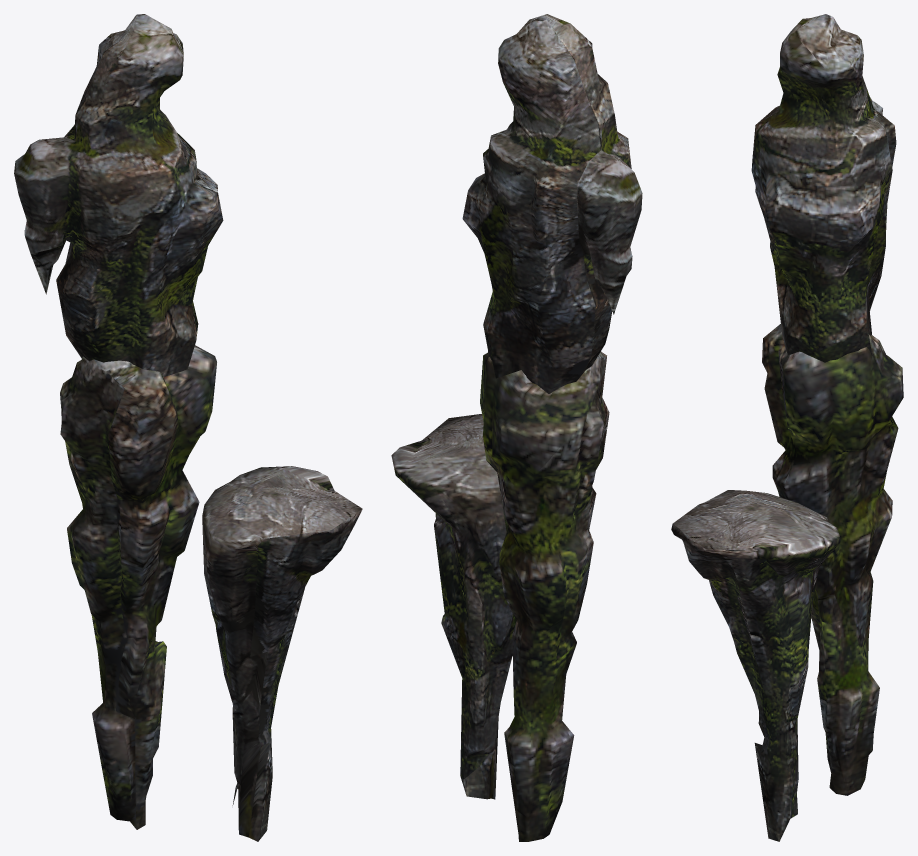
The model's file is Utility_Stone_Maincity12_06.FBX.
3 views of the same model, side by side, from view 1: azimuth 30°, elevation 25°; view 2: azimuth 150°, elevation 25°; view 3: azimuth 270°, elevation 25° (orthographic). The views are drawn at different scales.
Parts seen in each view (by area): view 1: Utility_Stone_Maincity12_06; view 2: Utility_Stone_Maincity12_06; view 3: Utility_Stone_Maincity12_06.
Part boxes in pixels (x1,y1,x2,y2): Utility_Stone_Maincity12_06: (14, 14, 362, 841); Utility_Stone_Maincity12_06: (391, 14, 642, 841); Utility_Stone_Maincity12_06: (671, 14, 903, 841).
Size of the model in its own units: 11641 by 33261 by 8951.
